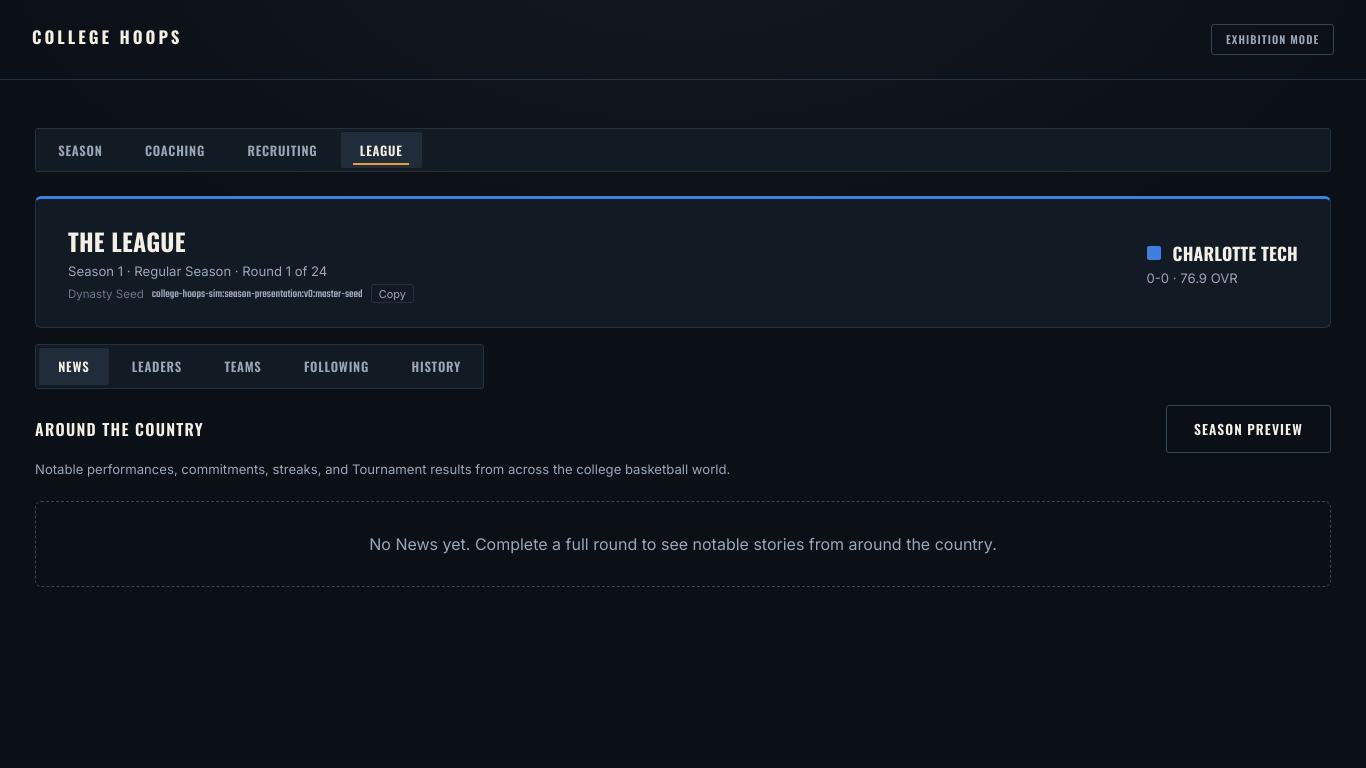
Test: League — Following › shows active Players normally in a mixed active/unresolved result, with a minimal unresolved note
The width and height of the screenshot is (1366, 768).
Click the button "Following": (336, 367) [285,348,388,385]
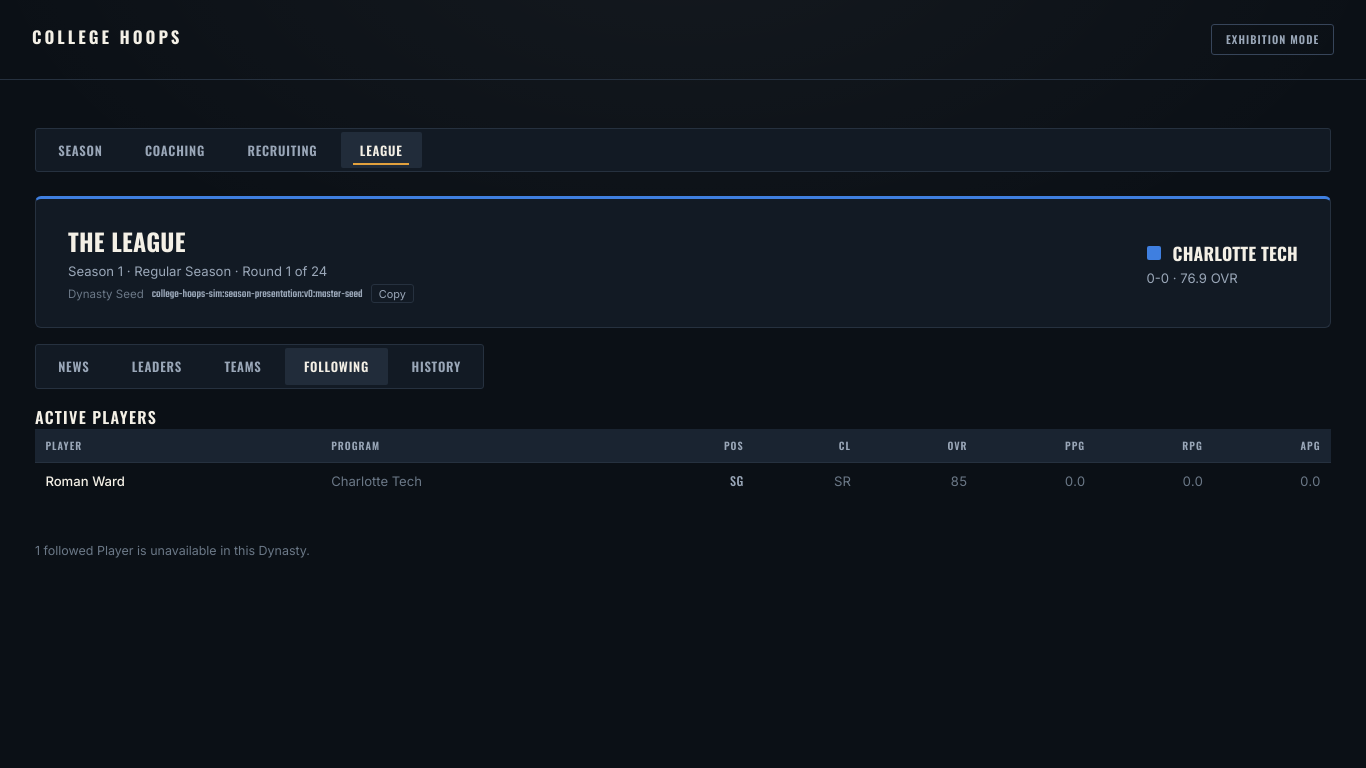
Result: the text "1 followed Player is unavailable in this Dynasty." is shown at [35,543,310,558]
